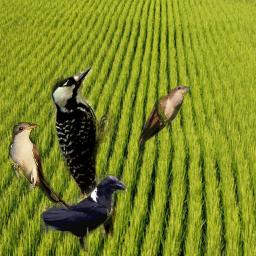Crow: (40, 174, 127, 252)
Cuckoo: (8, 122, 70, 212), (136, 85, 190, 149)
Woodpecker: (43, 62, 130, 253)
